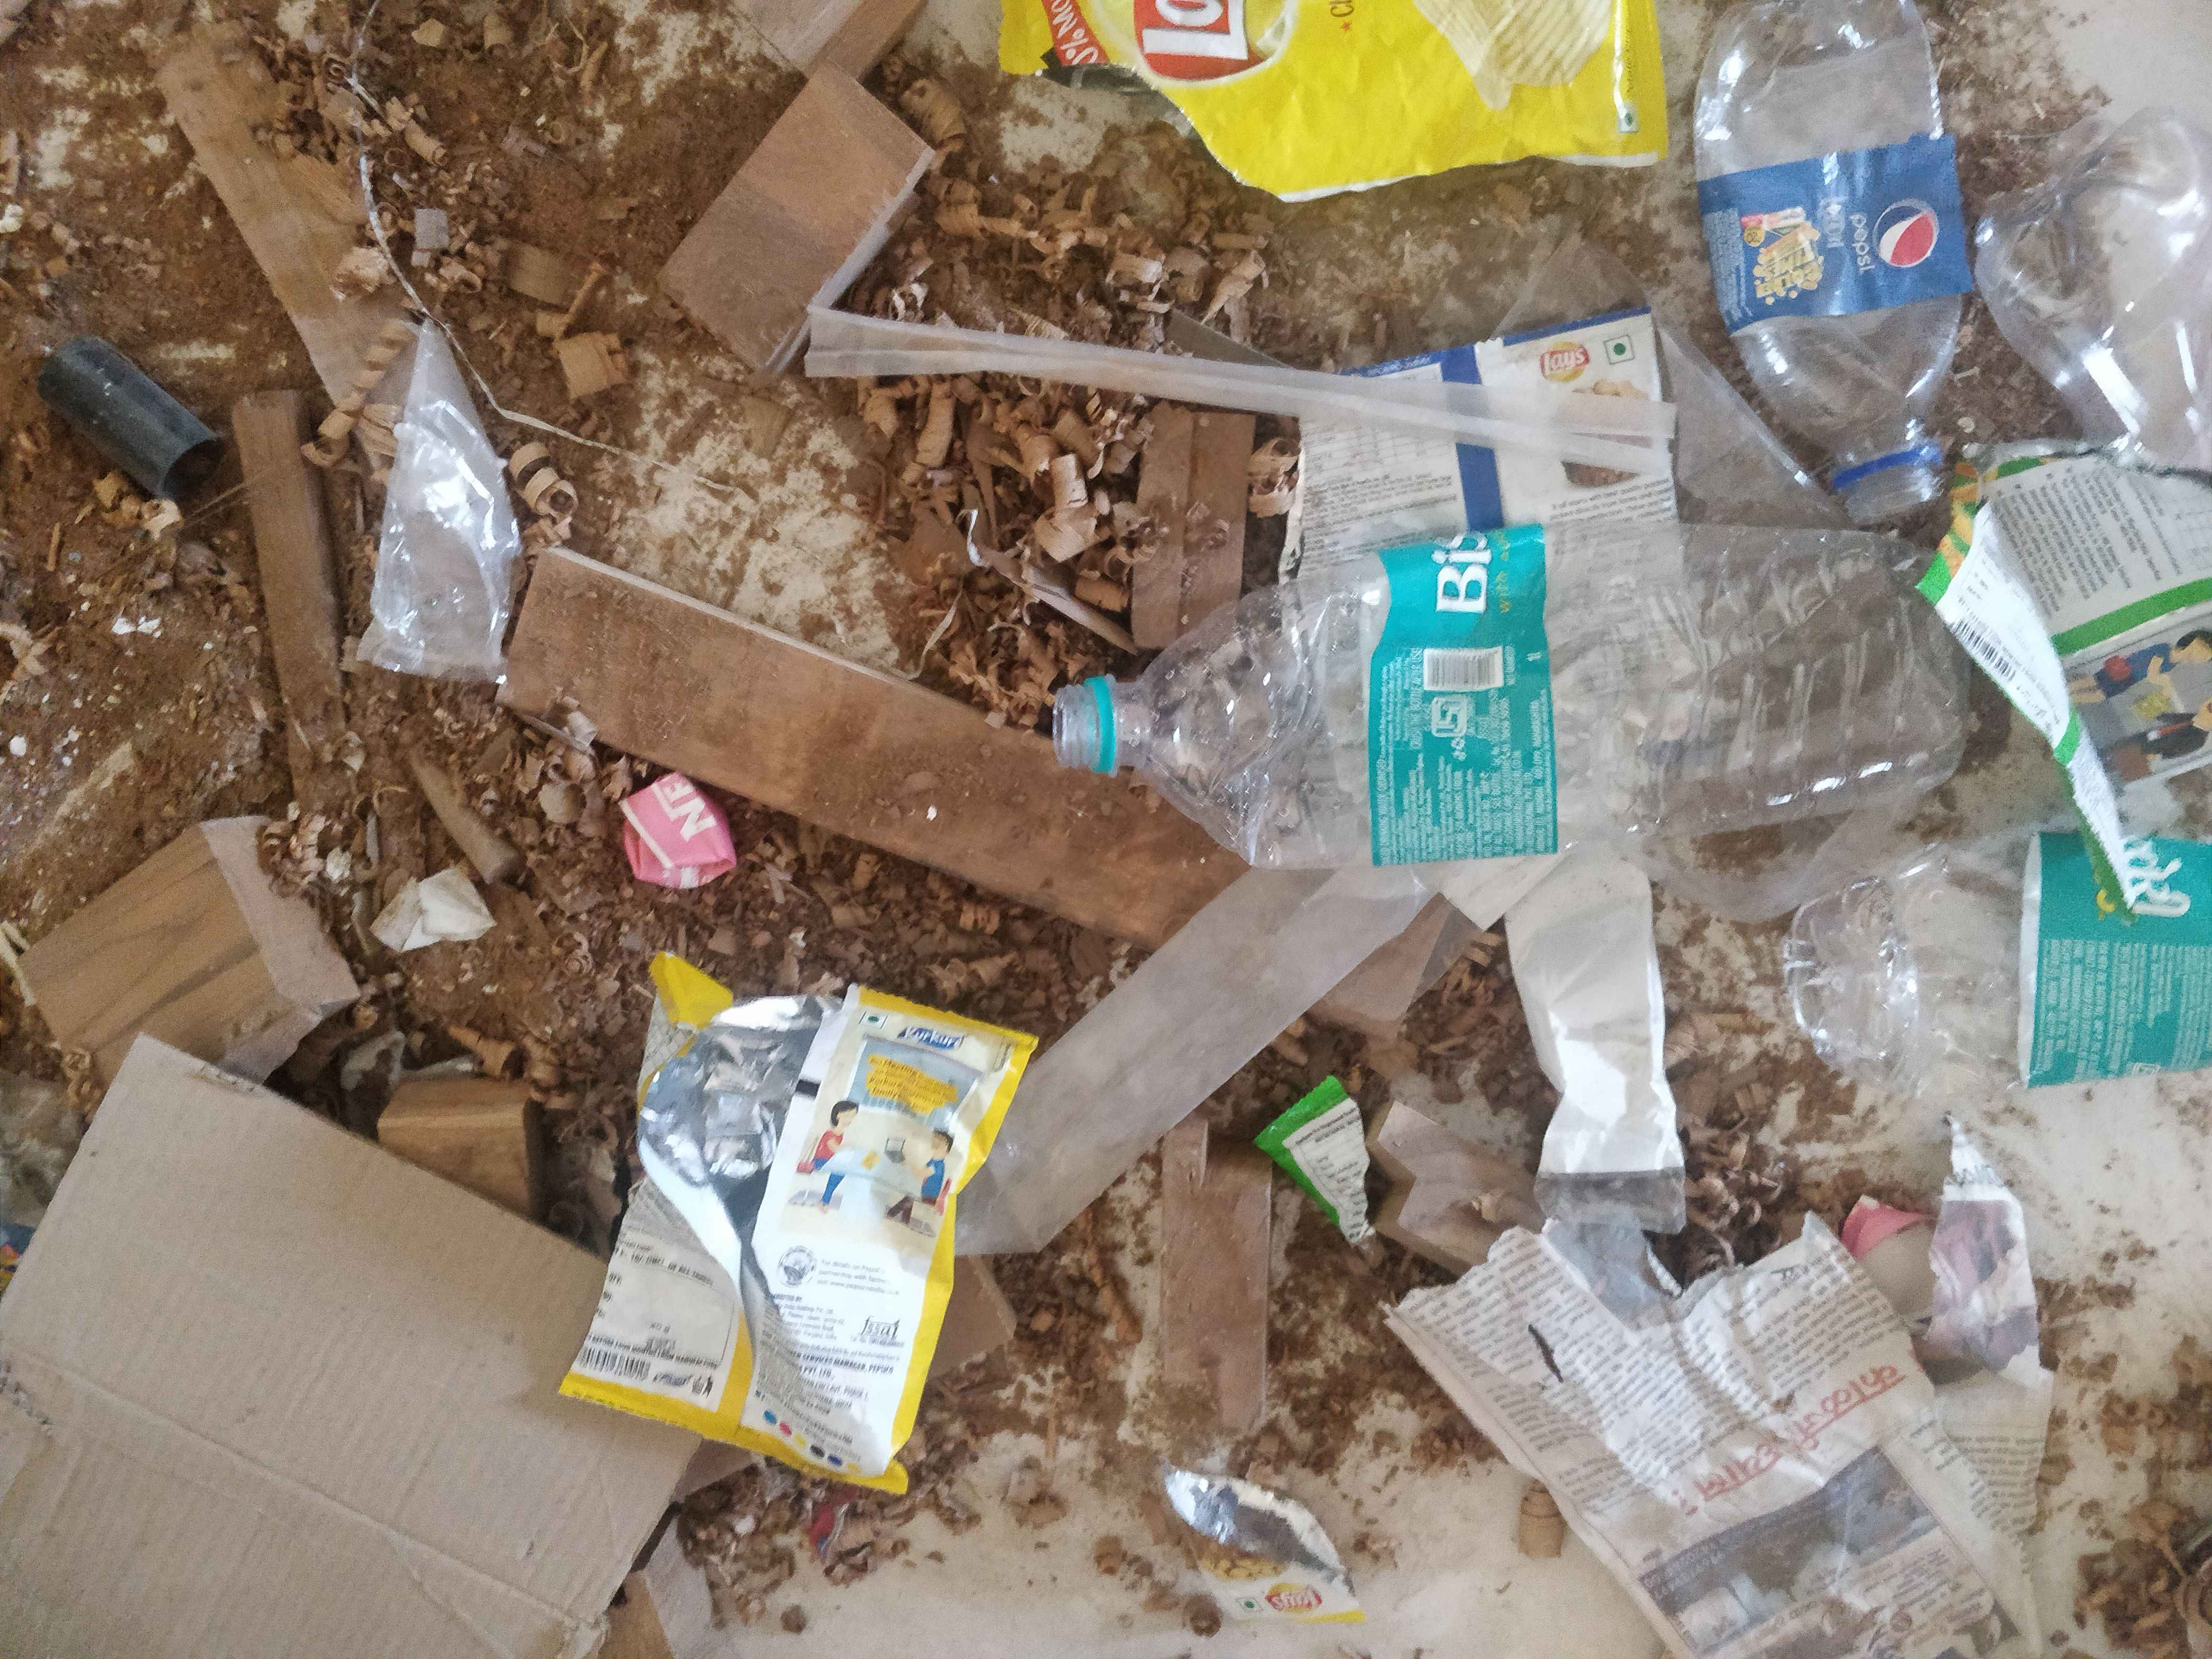Bisleri: (1399, 519, 1561, 864), (2066, 836, 2202, 1063)
Lays: (1134, 0, 1341, 96), (1522, 336, 1606, 401)
kurkure: (899, 1011, 991, 1096)
pepsi: (1846, 166, 1939, 303)
